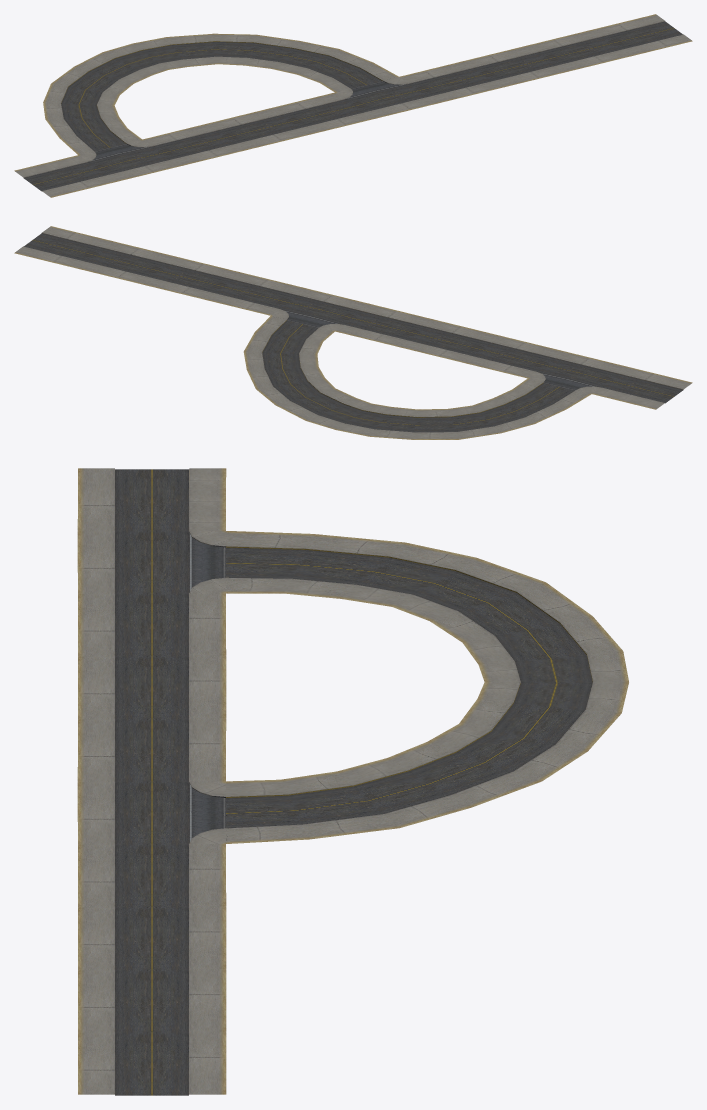
File: vegassroad130.obj
3 views of the same model, one above another, from view 1: azimuth 30°, elevation 25°; view 2: azimuth 150°, elevation 25°; view 3: azimuth 270°, elevation 25° (orthographic). The views are drawn at different scales.
Parts seen in each view (by area): view 1: VegasSroad130; view 2: VegasSroad130; view 3: VegasSroad130.
Boxes of the visible parts, left/top/right/bottom form: VegasSroad130: left=14, top=14, right=692, bottom=197; VegasSroad130: left=14, top=226, right=692, bottom=439; VegasSroad130: left=77, top=468, right=628, bottom=1095.
Bounding box in the file's own units: 200 × 0.2216 × 74.39.
Materials: 4 (4 with a texture image).
